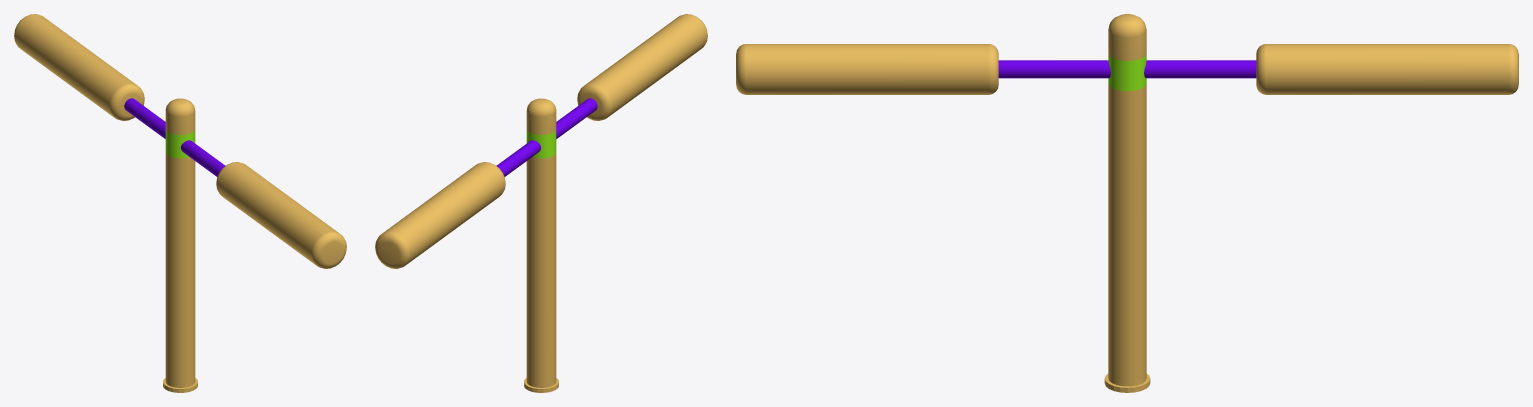
The model's file is Obstacle9.fbx.
The picture shows the model from 3 angles, left to right: view 1: azimuth 30°, elevation 25°; view 2: azimuth 150°, elevation 25°; view 3: azimuth 270°, elevation 25°; orthographic projection. The views are drawn at different scales.
Parts seen in each view (by area): view 1: Bat2, Pole; view 2: Bat2, Pole; view 3: Bat2, Pole.
Boxes of the visible parts, x1,y1,x2,y2 form: Bat2: (14,14,346,268); Pole: (163,98,197,392); Bat2: (375,14,707,268); Pole: (524,98,558,392); Bat2: (736,44,1518,94); Pole: (1104,14,1150,392).
Bounding box in the file's own units: 40 × 313 × 608.
